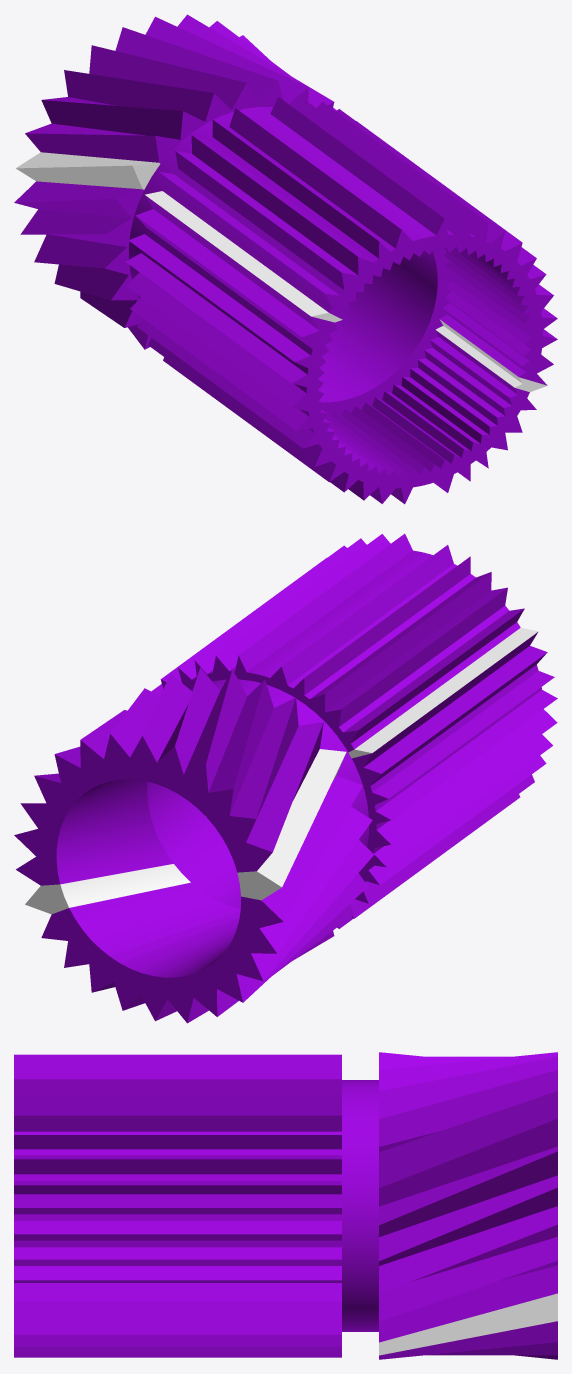
The model's file is 664 and 668- part 2.fbx.
3 views of the same model, one above another, from view 1: azimuth 30°, elevation 25°; view 2: azimuth 150°, elevation 25°; view 3: azimuth 270°, elevation 25° (orthographic).
Visible parts, largest first — view 1: 664 and 668- part 2.001; view 2: 664 and 668- part 2.001; view 3: 664 and 668- part 2.001.
Boxes of the visible parts, <box> form: 664 and 668- part 2.001: <box>14,14,557,504</box>; 664 and 668- part 2.001: <box>14,533,557,1023</box>; 664 and 668- part 2.001: <box>14,1052,557,1359</box>.
Size of the model in its own units: 412 by 412 by 730.
